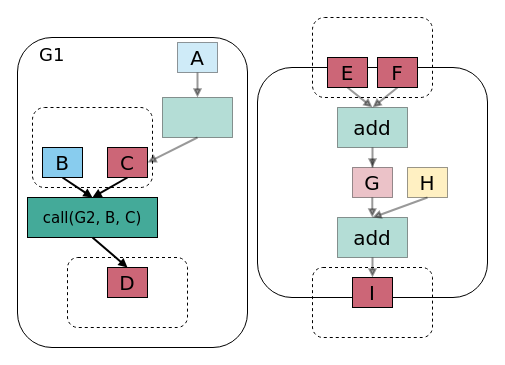
The diagram is 505 pixels wide and 365 high, and some of its shapes have lost their labels. Here are the shapes that lost their labels. From the top down, the box of each, then its label:
(312, 16, 432, 98): Graph inputs
(162, 96, 232, 138): mean
(32, 106, 152, 188): Parent inputs
(256, 66, 488, 298): G2
(66, 256, 188, 328): Parent outputs
(312, 266, 432, 338): Graph outputs
